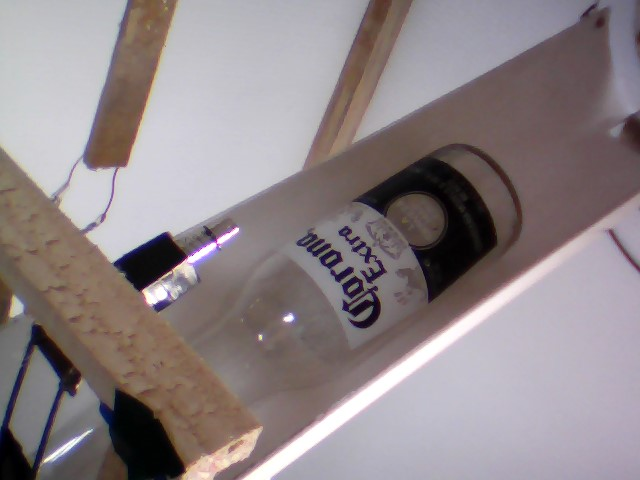vidrio: (188, 138, 526, 413)
